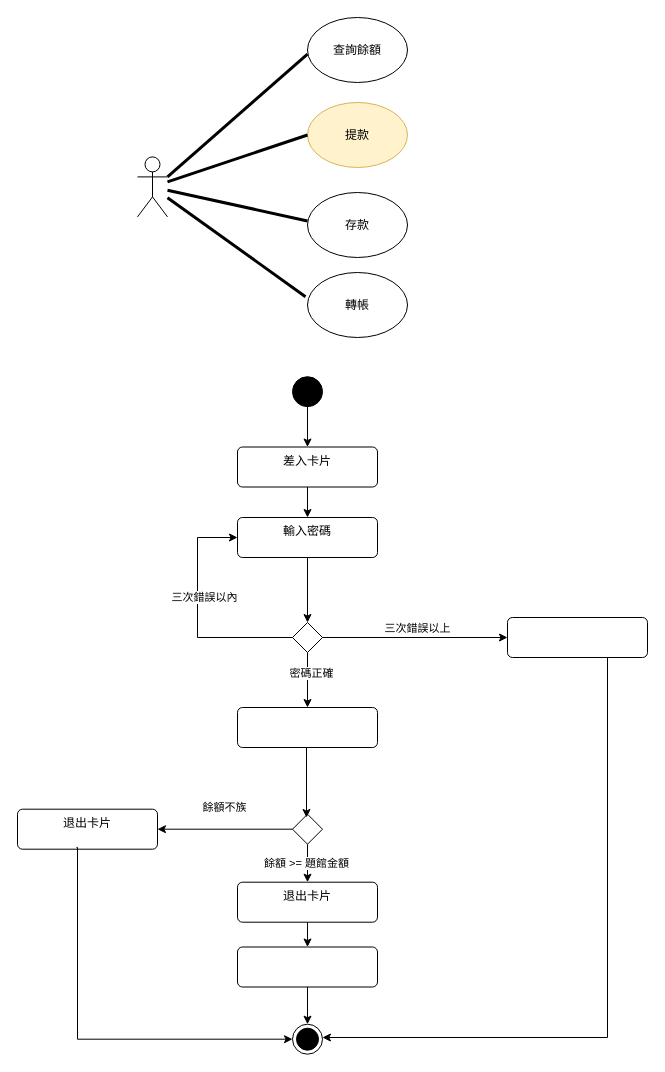
Image size: 665x1072. Some labels were removed from this diagram. Here are the shapes that lost their labels. From the top down, the centre of each, then its label:
the point at 152,186: Actor
the point at 577,637: 凍結卡片
the point at 307,727: 輸入金額
the point at 307,966: 吐鈔
